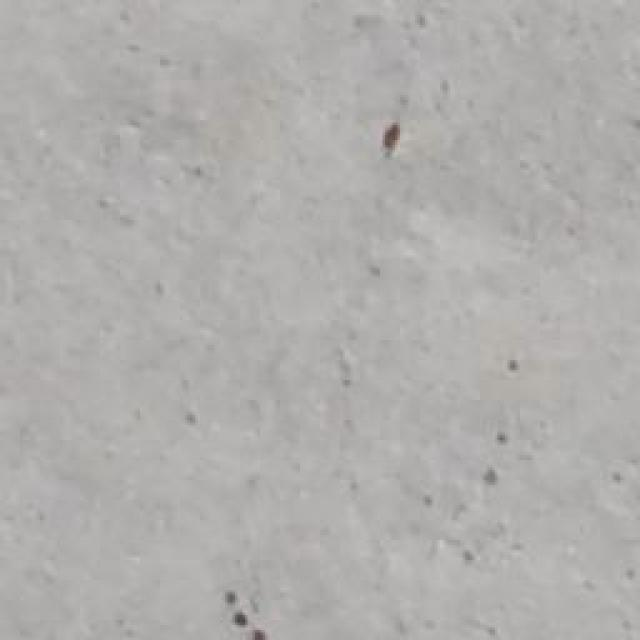concrete-crack: (380, 120, 402, 160)
